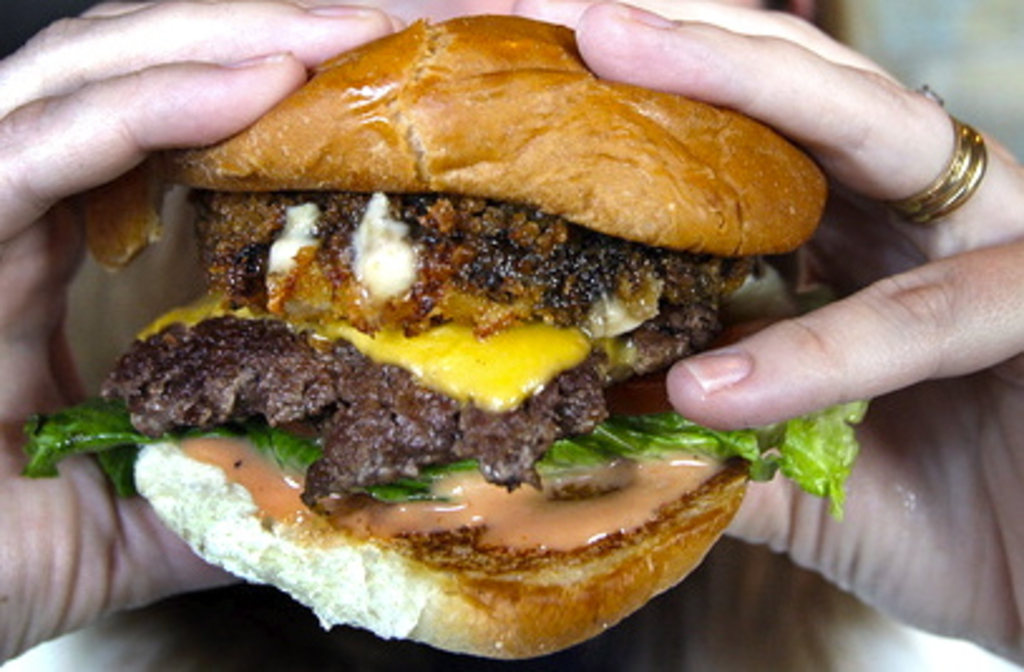Hamburger: (17, 15, 870, 661)
